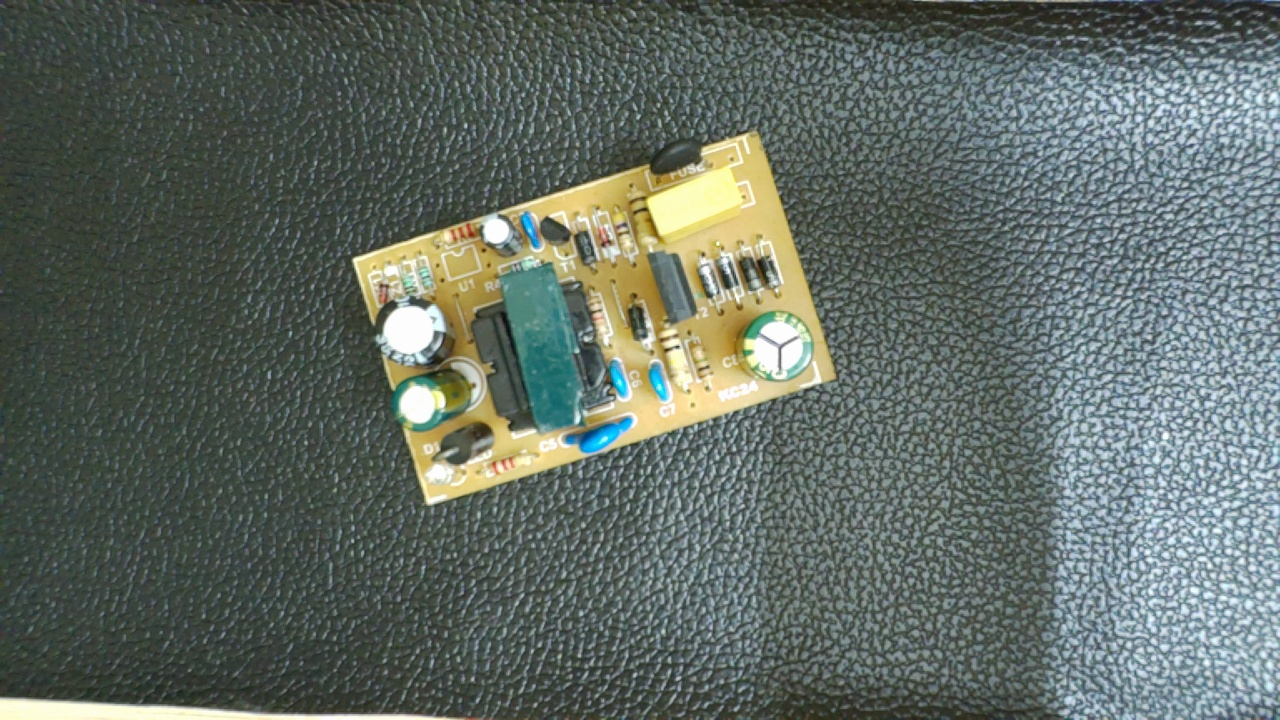fuse: (644, 135, 720, 186)
hv_capacitor: (731, 309, 822, 386)
mov: (561, 413, 638, 458)
